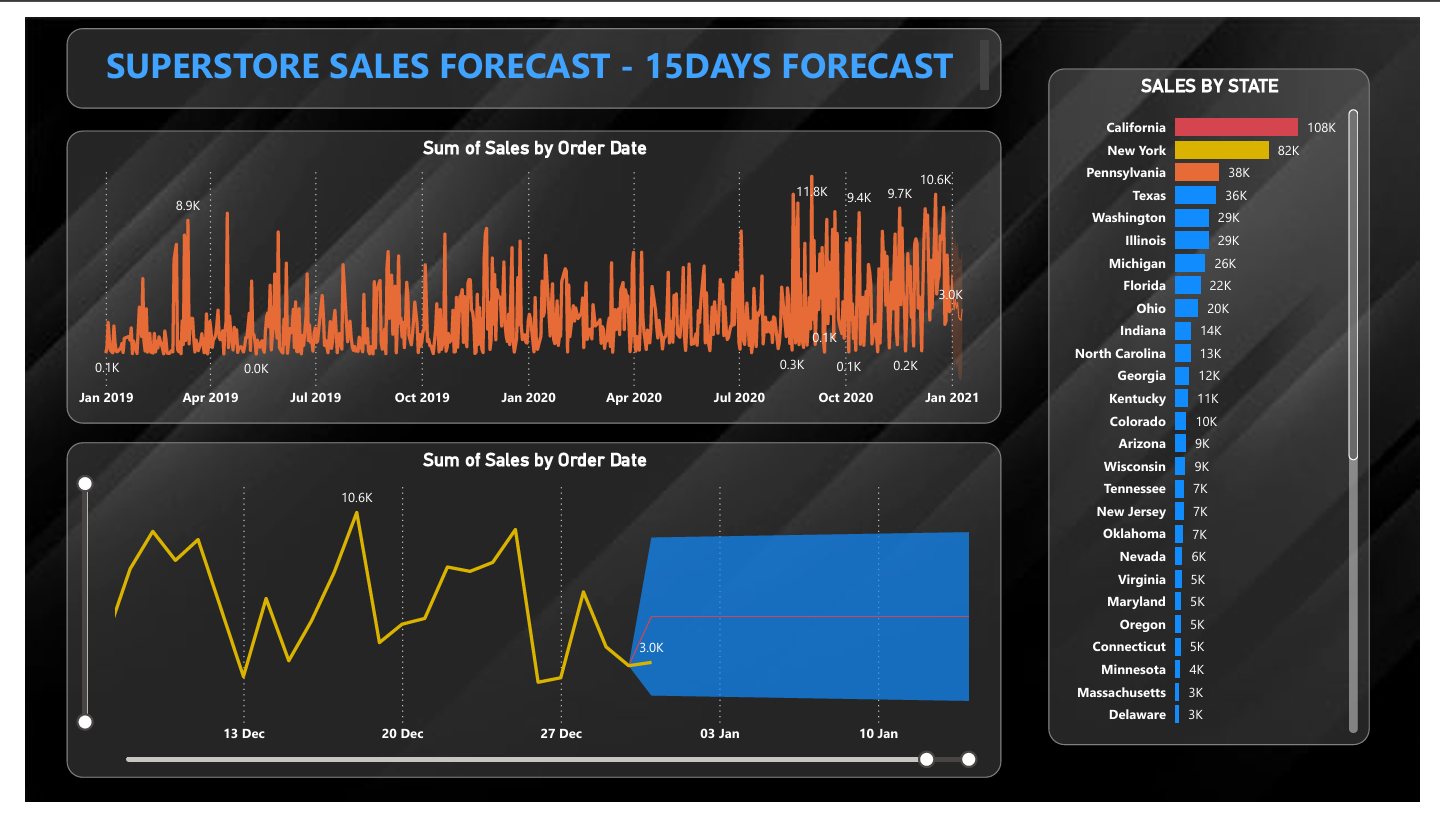

The dashboard page shown, as its layout file describes it:
{"tool":"powerbi","page":{"name":"Page 2","canvas":[1280,720],"ordinal":1},"visuals":[{"type":"lineChart","fields":{"Y":["Sum(SuperStore_Sales_Dataset.Sales)"],"Category":["SuperStore_Sales_Dataset.Order Date"]},"box":[38.4,104.3,857.6,269],"z":0},{"type":"lineChart","fields":{"Y":["Sum(SuperStore_Sales_Dataset.Sales)"],"Category":["SuperStore_Sales_Dataset.Order Date"]},"box":[38.4,389.7,857.6,308.7],"z":1000},{"type":"clusteredBarChart","title":"SALES BY STATE","fields":{"Y":["Sum(SuperStore_Sales_Dataset.Sales)"],"Category":["SuperStore_Sales_Dataset.State"]},"box":[938.6,46.7,295,621.6],"z":2000},{"type":"textbox","box":[38.4,9.6,857.6,74.1],"z":3000}]}

Visuals, with their boxes in screenshot pixels (x1, y1, x2, y2), scaled from the page's 1280x720 canvas onto the 1440x823 screenshot:
lineChart - Sum(SuperStore_Sales_Dataset.Sales) x SuperStore_Sales_Dataset.Order Date: (43, 119, 1008, 427)
lineChart - Sum(SuperStore_Sales_Dataset.Sales) x SuperStore_Sales_Dataset.Order Date: (43, 445, 1008, 798)
"SALES BY STATE" clusteredBarChart: (1056, 53, 1388, 764)
textbox: (43, 11, 1008, 96)
